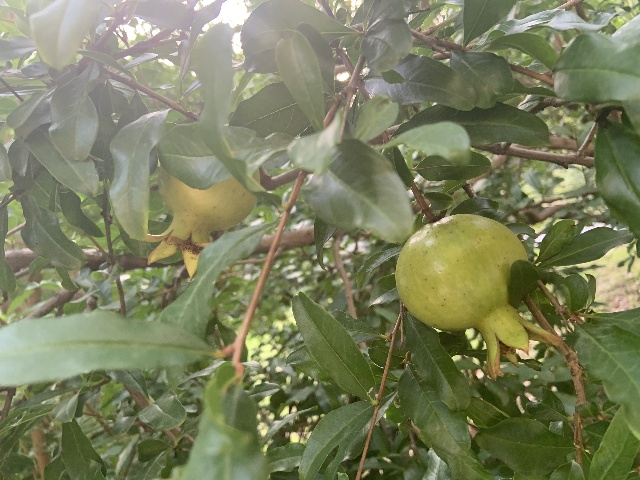mid-growth: (395, 213, 561, 381), (144, 163, 260, 281)
